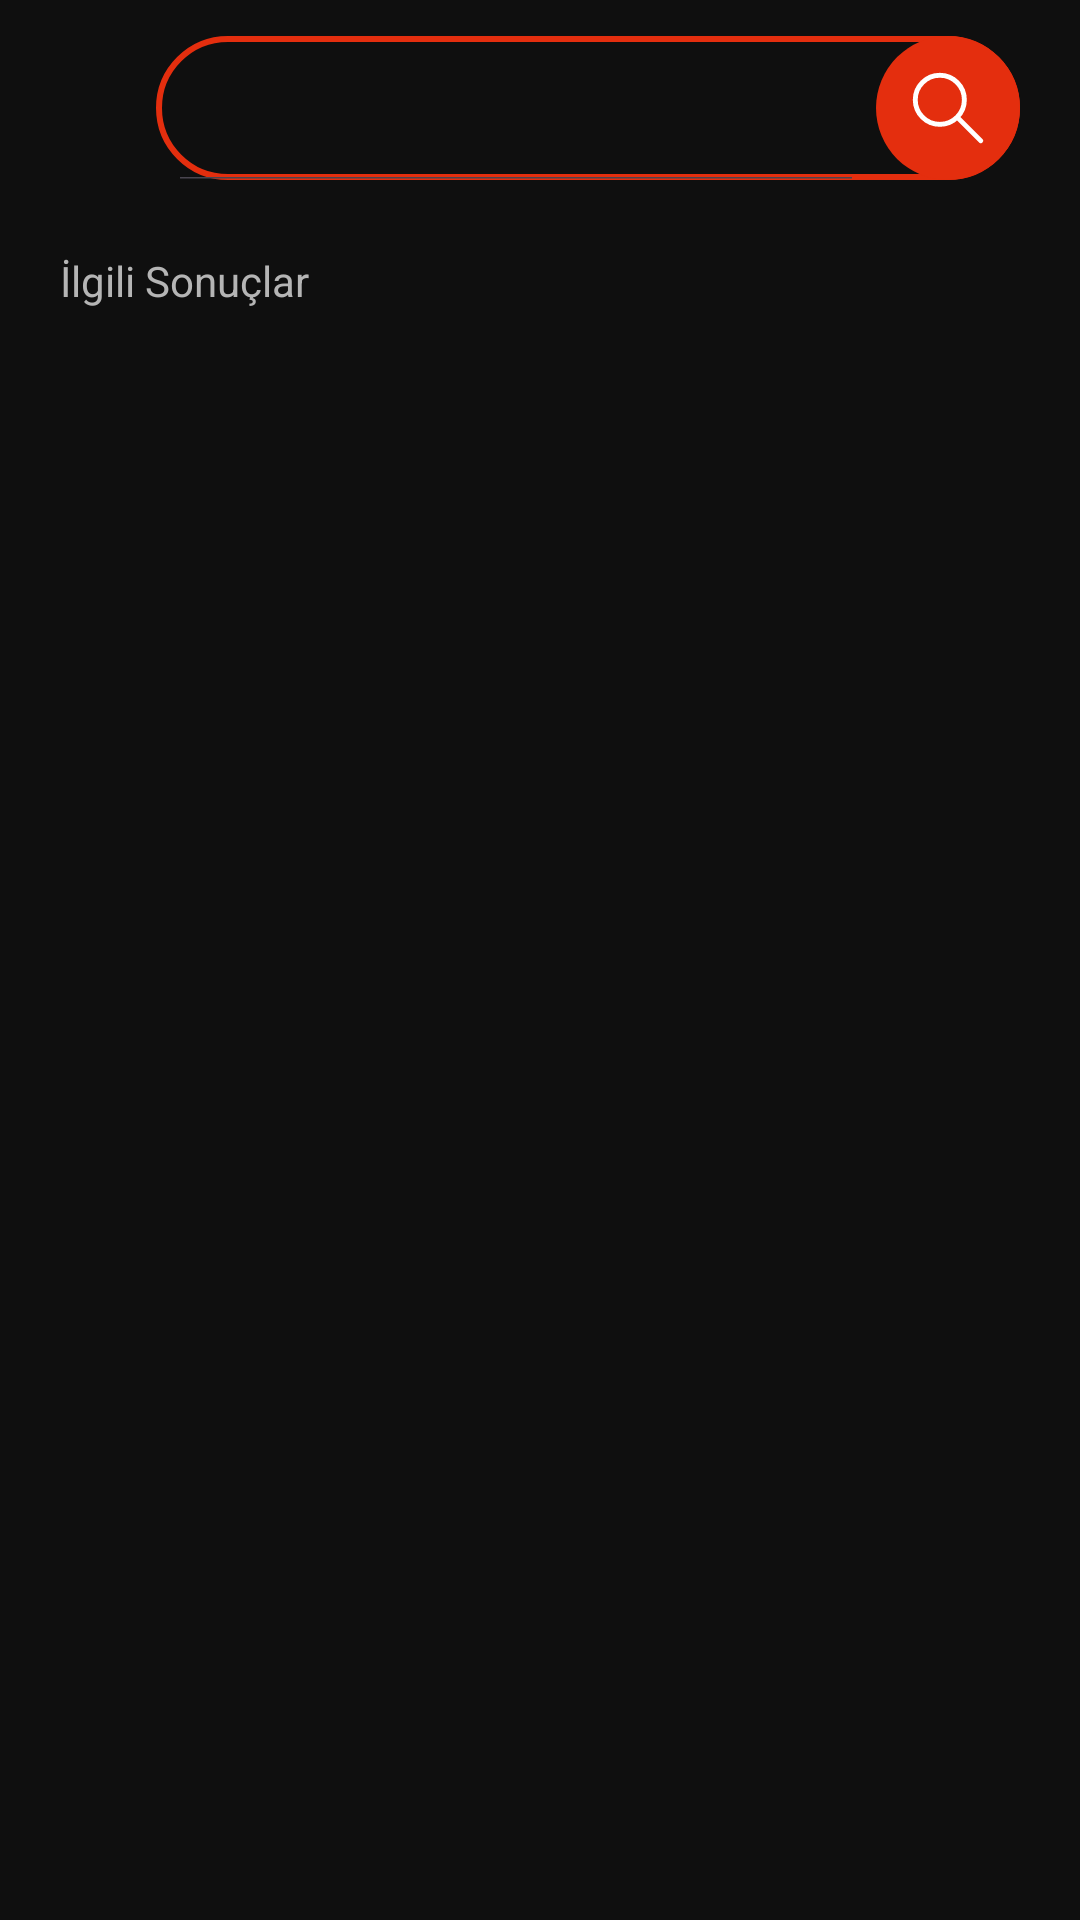

Icons on this 1080 × 1920 Android screen, each with the point to tap as point (x, y):
card search: point (948, 108)
